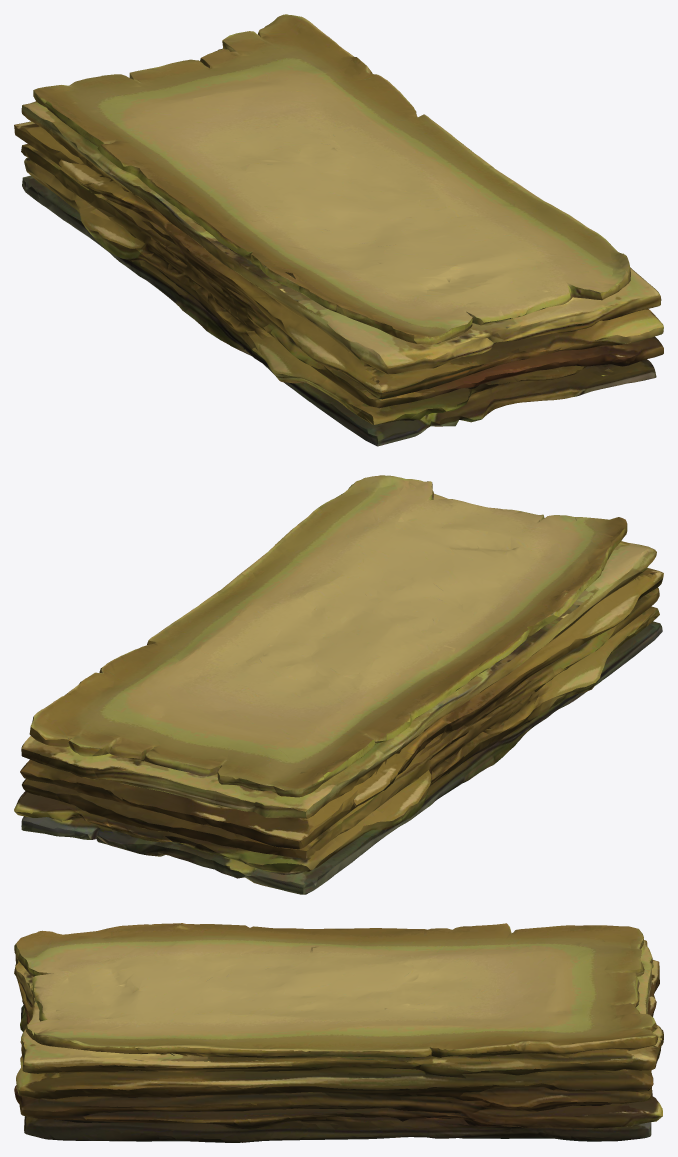
File: item_talisman_paper.glb
3 views of the same model, one above another, from view 1: azimuth 30°, elevation 25°; view 2: azimuth 150°, elevation 25°; view 3: azimuth 270°, elevation 25° (orthographic). The views are drawn at different scales.
Parts seen in each view (by area): view 1: item_talisman_paper; view 2: item_talisman_paper; view 3: item_talisman_paper.
Boxes of the visible parts, x1,y1,x2,y2 form: item_talisman_paper: (14,14,663,446); item_talisman_paper: (14,475,663,894); item_talisman_paper: (14,923,663,1142).
Bounding box in the file's own units: 0.1089 × 0.038 × 0.22.
1 material, 1 textured.
